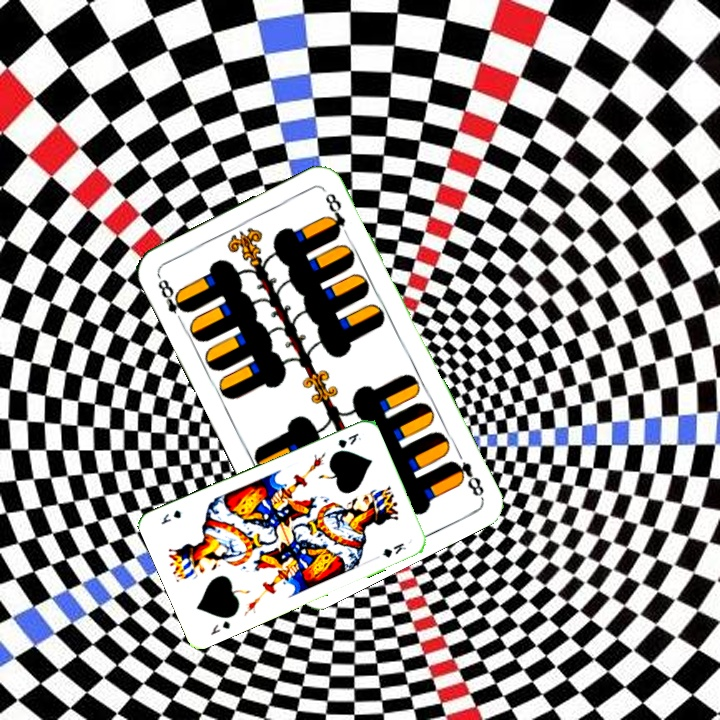E8: (153, 271, 192, 327), (446, 456, 487, 500)
GK: (334, 429, 363, 451), (206, 617, 233, 638)
